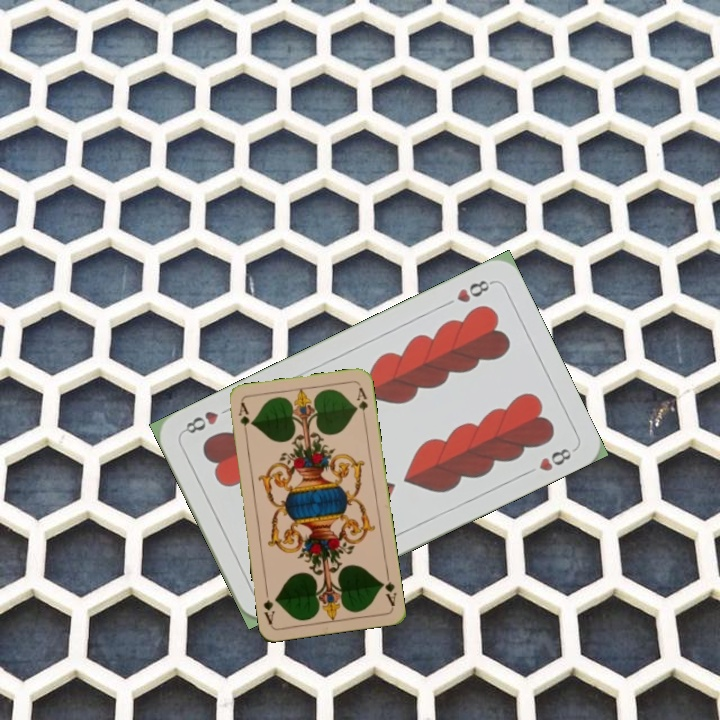GA: (377, 568, 399, 609), (234, 399, 252, 439)
H8: (452, 276, 496, 306)
